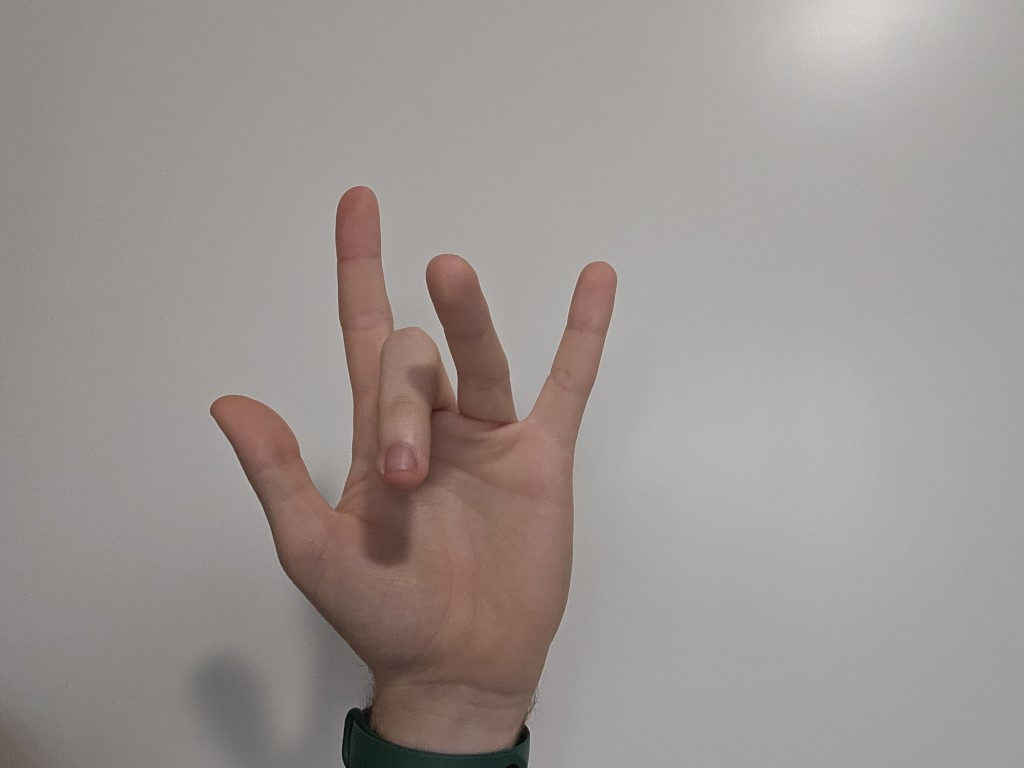reset: (155, 142, 693, 717)
